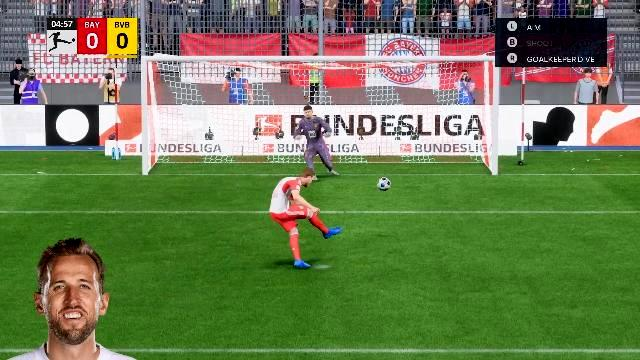bottom-left: (150, 124, 264, 176)
bottom-right: (380, 124, 488, 176)
center-down: (266, 124, 378, 176)
center-up: (266, 64, 378, 122)
football: (373, 180, 393, 193)
goalkeeper: (296, 105, 340, 180)
player: (265, 169, 341, 269)
top-left: (150, 63, 264, 123)
top-right: (380, 65, 484, 124)
